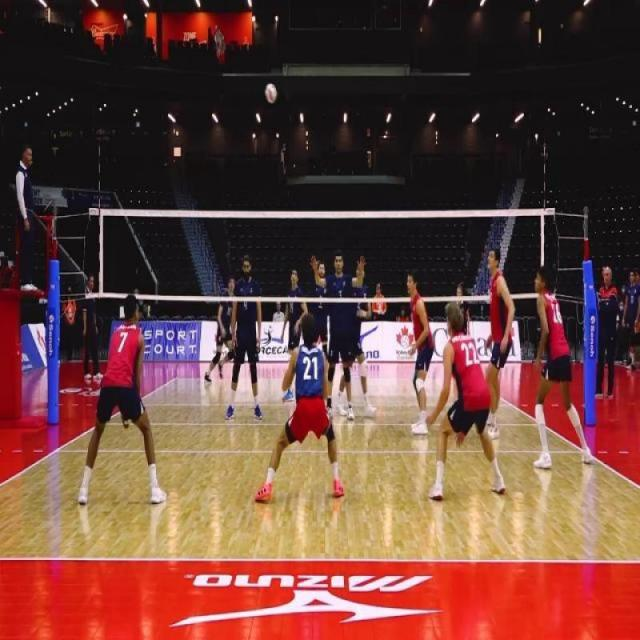volleyball: (264, 82, 278, 105)
